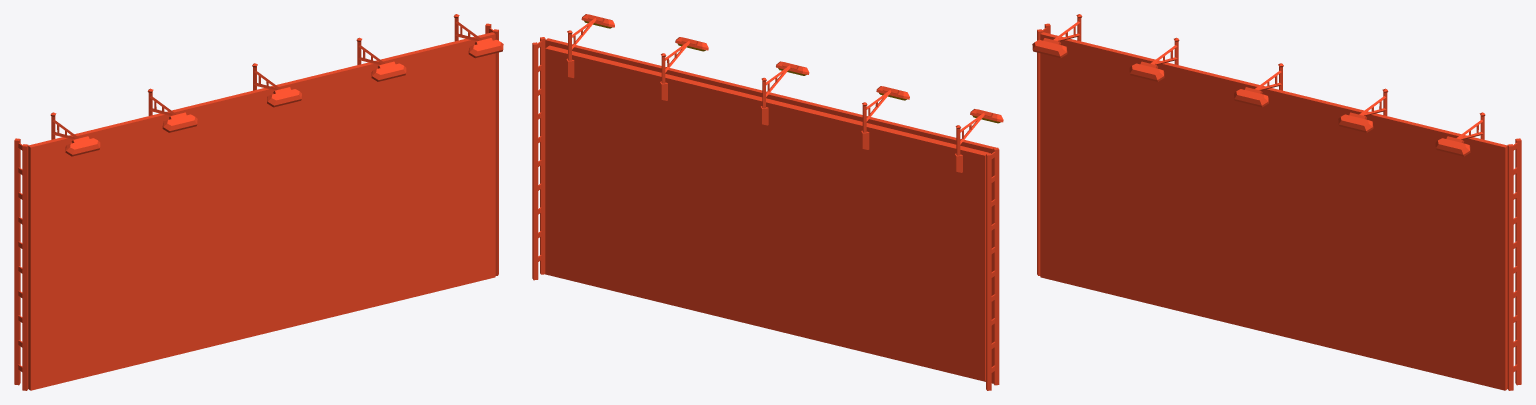
File: SM_Billboard_Tortelino_City.fbx
The picture shows the model from 3 angles, left to right: view 1: azimuth 30°, elevation 25°; view 2: azimuth 150°, elevation 25°; view 3: azimuth 330°, elevation 25°; orthographic projection. The views are drawn at different scales.
Parts seen in each view (by area): view 1: SM_Billboard_Tortelino_City; view 2: SM_Billboard_Tortelino_City; view 3: SM_Billboard_Tortelino_City.
Part boxes in pixels (x1,y1,x2,y2): SM_Billboard_Tortelino_City: [14, 14, 503, 390]; SM_Billboard_Tortelino_City: [532, 14, 1003, 390]; SM_Billboard_Tortelino_City: [1032, 14, 1521, 390].
Size of the model in its own units: 5.13 by 2.72 by 0.6856.
